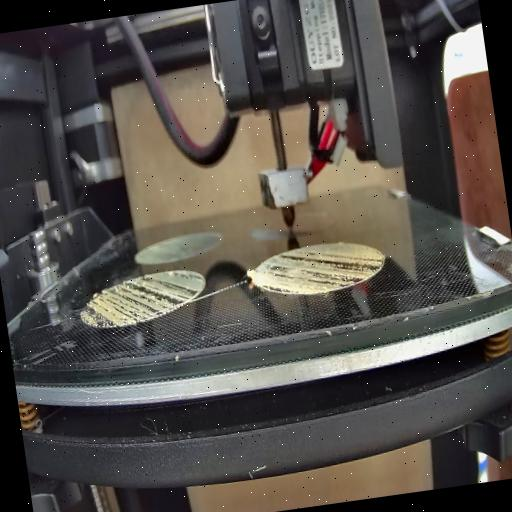under_extrusion: (260, 240, 384, 300), (80, 268, 206, 327)
